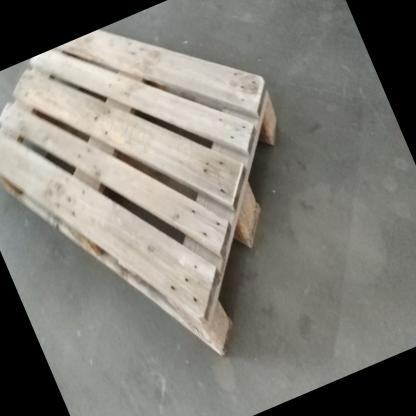BoxFace: (0, 28, 281, 364)
